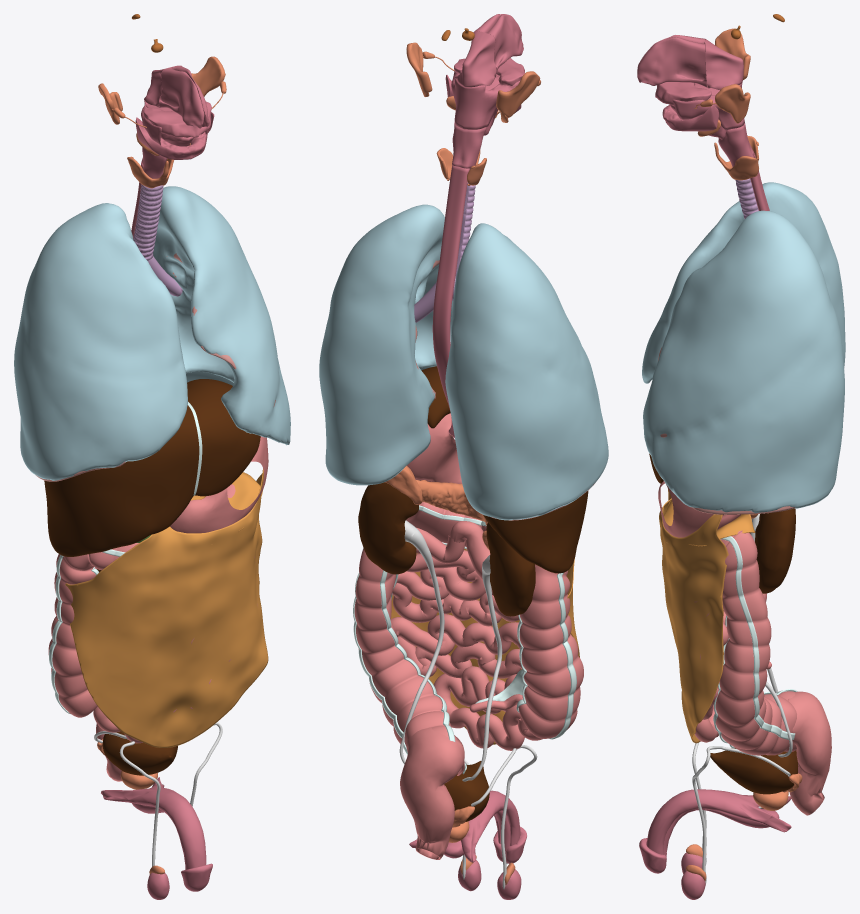
File: visceral.glb
3 views of the same model, side by side, from view 1: azimuth 30°, elevation 25°; view 2: azimuth 150°, elevation 25°; view 3: azimuth 270°, elevation 25° (orthographic). The views are drawn at different scales.
Visible parts, largest first — view 1: Pleura, Greater omentum, Liver, Ascending colon, Corpus cavernosum of penis, Stomach, Gingiva, Mucosa of nasal cavity, Urinary bladder, Trachea, Mesocolon, Parotid gland.l (+5 smaller); view 2: Pleura, Jejunum, Ascending colon, Descending colon, Sigmoid colon, Liver, Kidney.l, Oesophagus, Kidney.r, Stomach, Oropharynx, Corpus cavernosum of penis (+20 smaller); view 3: Pleura, Greater omentum, Descending colon, Sigmoid colon, Corpus cavernosum of penis, Mucosa of nasal cavity, Kidney.l, Urinary bladder, Gingiva, Mesocolic taenia, Nasopharynx, Stomach (+13 smaller).
Boxes of the visible parts, <box> form: Pleura: <box>14,186,290,480</box>; Greater omentum: <box>65,469,268,747</box>; Liver: <box>44,379,260,556</box>; Ascending colon: <box>48,554,97,717</box>; Corpus cavernosum of penis: <box>101,777,206,869</box>; Stomach: <box>170,436,268,533</box>; Gingiva: <box>135,101,211,159</box>; Mucosa of nasal cavity: <box>159,65,210,128</box>; Urinary bladder: <box>102,731,177,775</box>; Trachea: <box>133,184,163,260</box>; Mesocolon: <box>227,472,262,531</box>; Parotid gland.l: <box>191,56,225,96</box>; Pleura: <box>319,204,608,520</box>; Jejunum: <box>391,527,542,750</box>; Ascending colon: <box>518,564,583,738</box>; Descending colon: <box>354,548,464,775</box>; Sigmoid colon: <box>400,727,464,859</box>; Liver: <box>421,366,588,573</box>; Kidney.l: <box>358,482,418,574</box>; Oesophagus: <box>432,165,469,438</box>; Kidney.r: <box>486,522,535,616</box>; Stomach: <box>407,413,462,483</box>; Oropharynx: <box>451,71,520,129</box>; Corpus cavernosum of penis: <box>409,790,520,862</box>; Pleura: <box>642,182,845,513</box>; Greater omentum: <box>659,489,728,743</box>; Descending colon: <box>715,530,796,755</box>; Sigmoid colon: <box>788,691,831,815</box>; Corpus cavernosum of penis: <box>646,789,791,854</box>; Mucosa of nasal cavity: <box>637,35,706,86</box>; Kidney.l: <box>755,508,795,593</box>; Urinary bladder: <box>710,748,798,794</box>; Gingiva: <box>655,82,718,131</box>; Mesocolic taenia: <box>720,536,795,739</box>; Nasopharynx: <box>705,39,743,89</box>; Stomach: <box>658,481,740,537</box>.
Bounding box in the file's own units: 0.2634 × 0.8931 × 0.1926.
